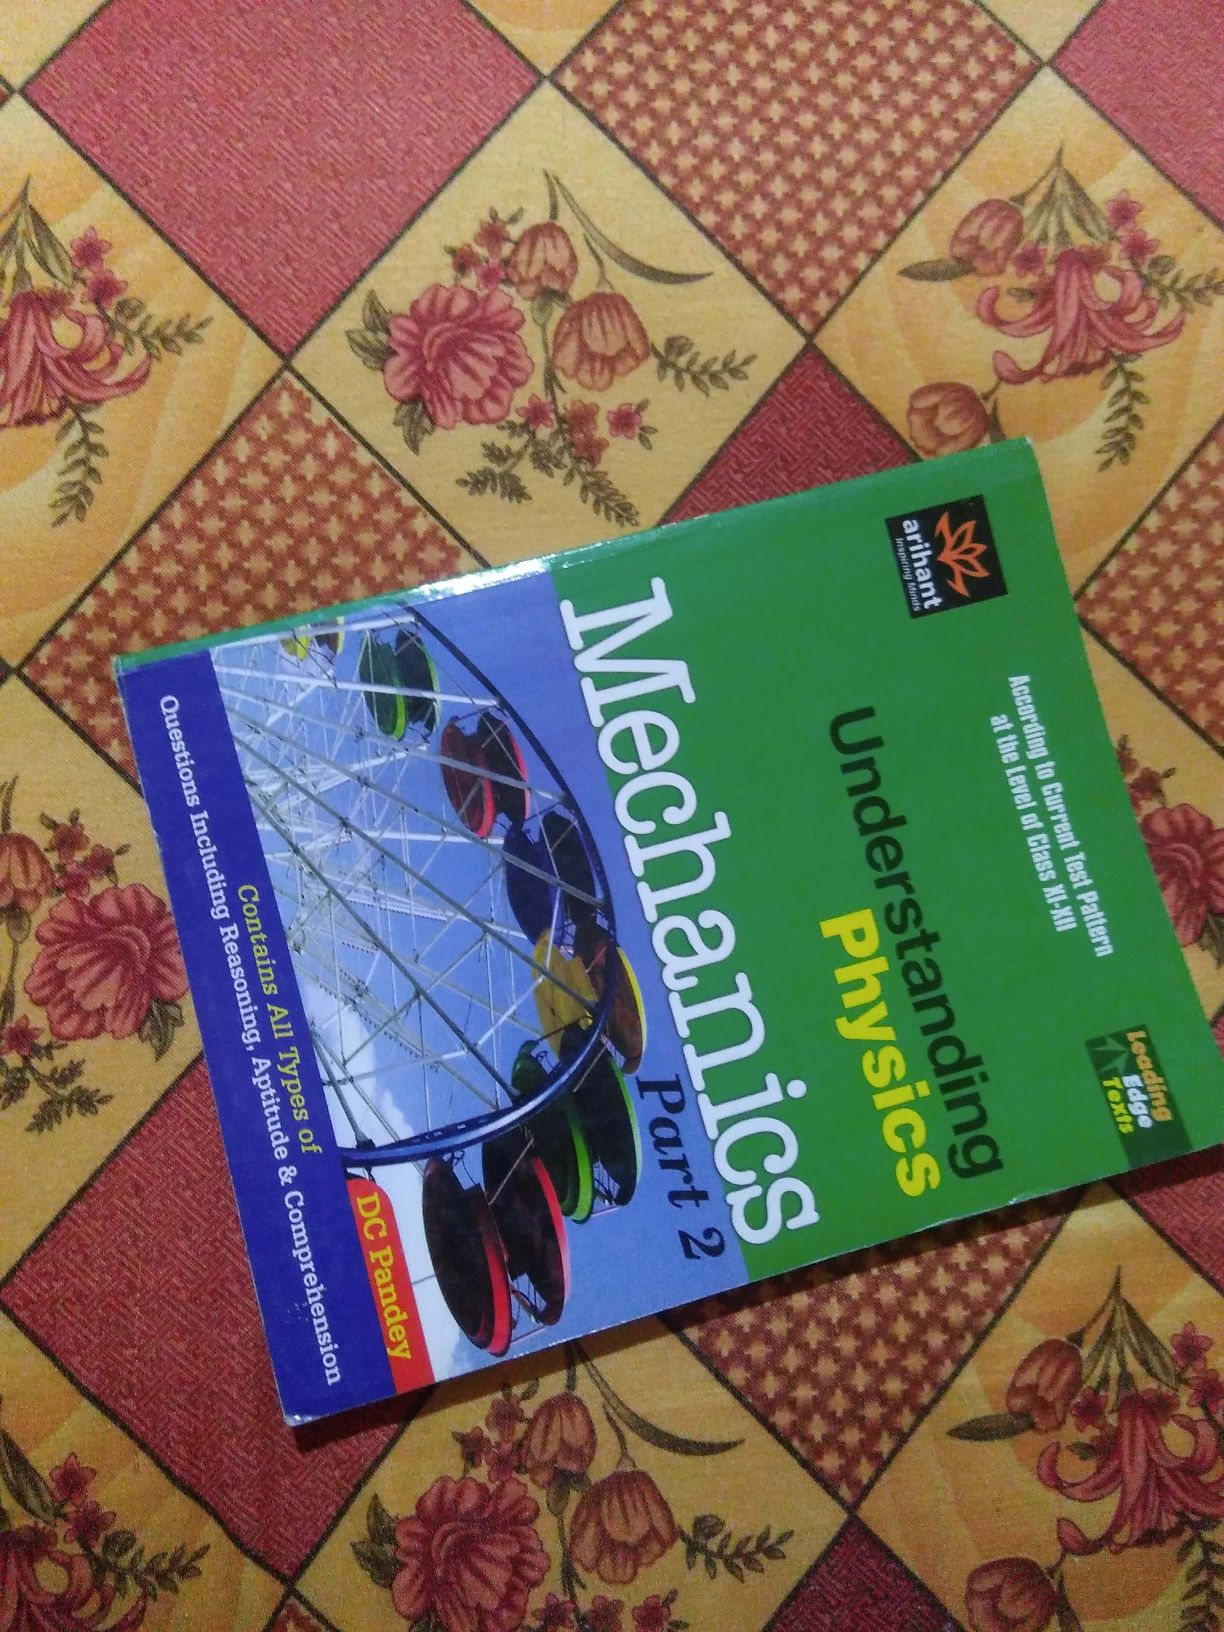mechanics: (80, 571, 1224, 1383)
